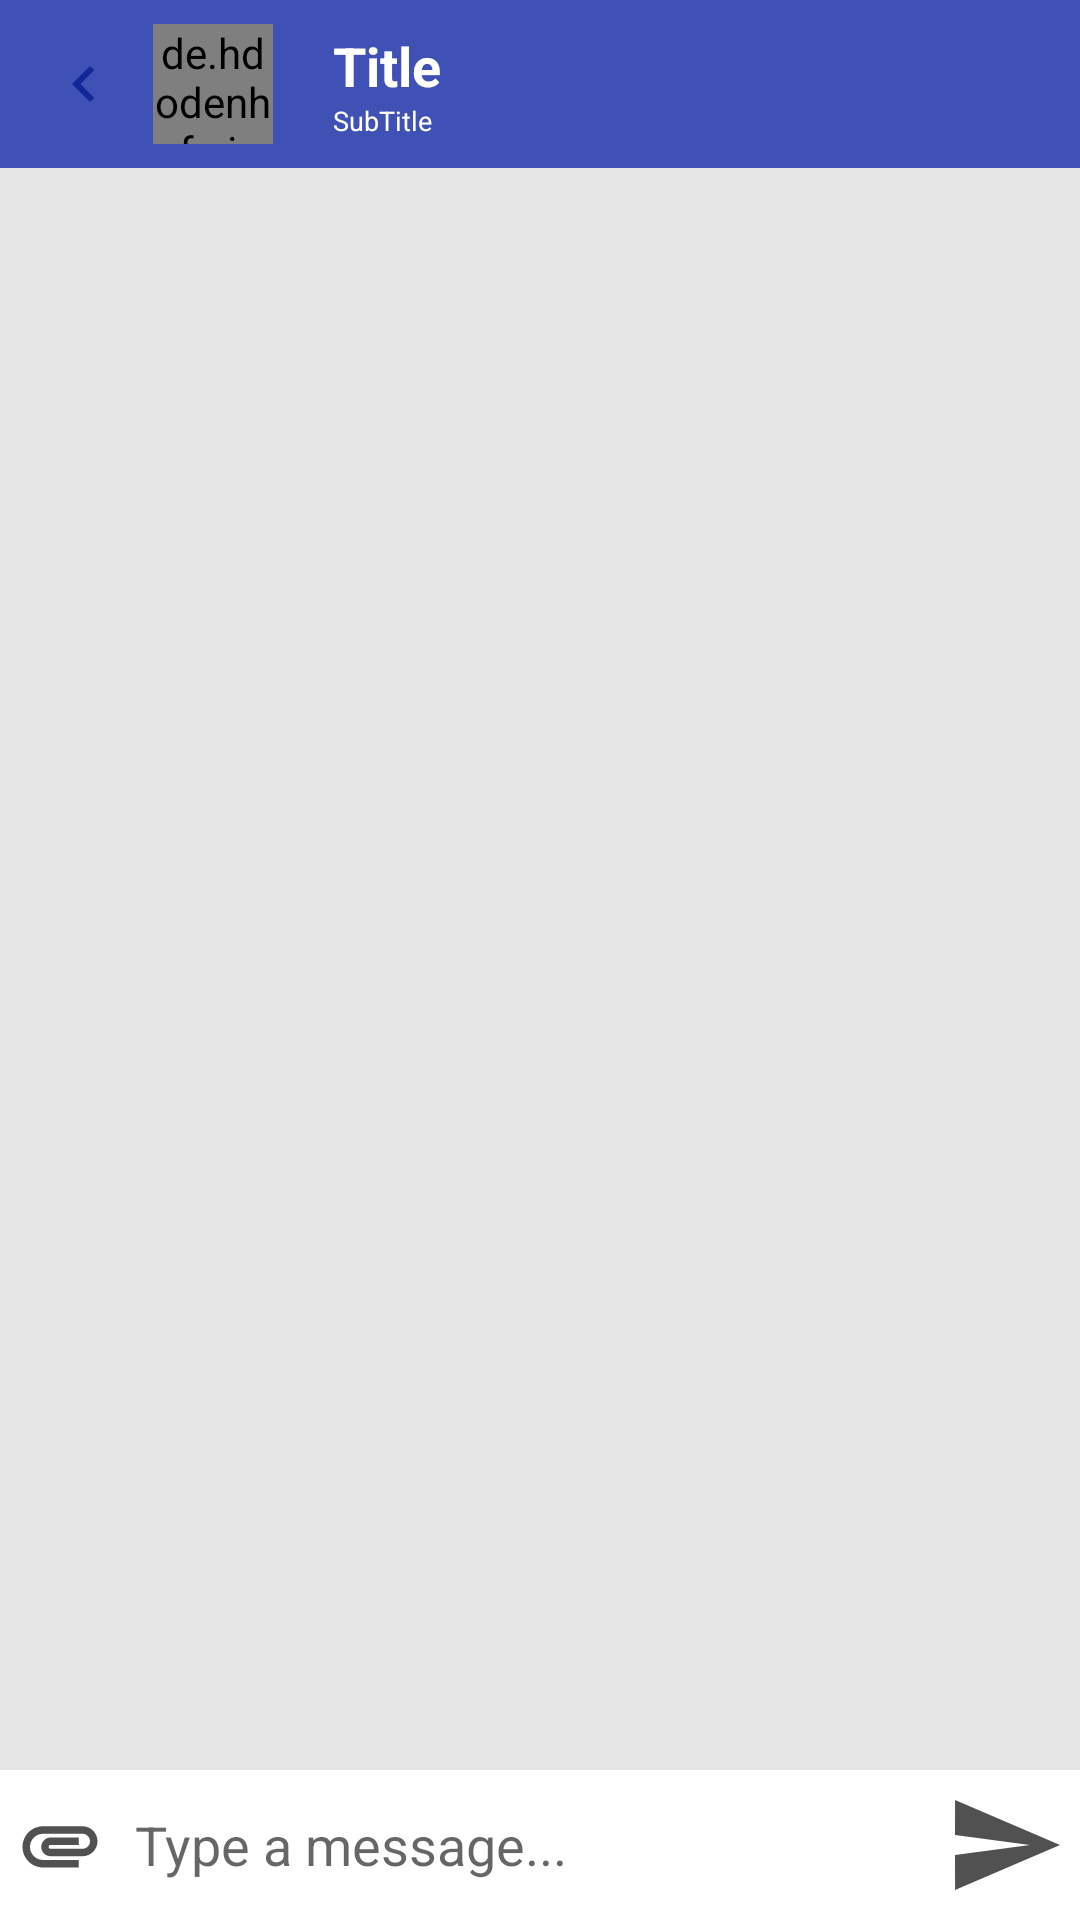

Locate icon controls on the screen. Image size 1080px×1920px, boxes as box(x1, y1, x2, y2).
back: box(73, 67, 94, 101)
send: box(955, 1800, 1060, 1890)
